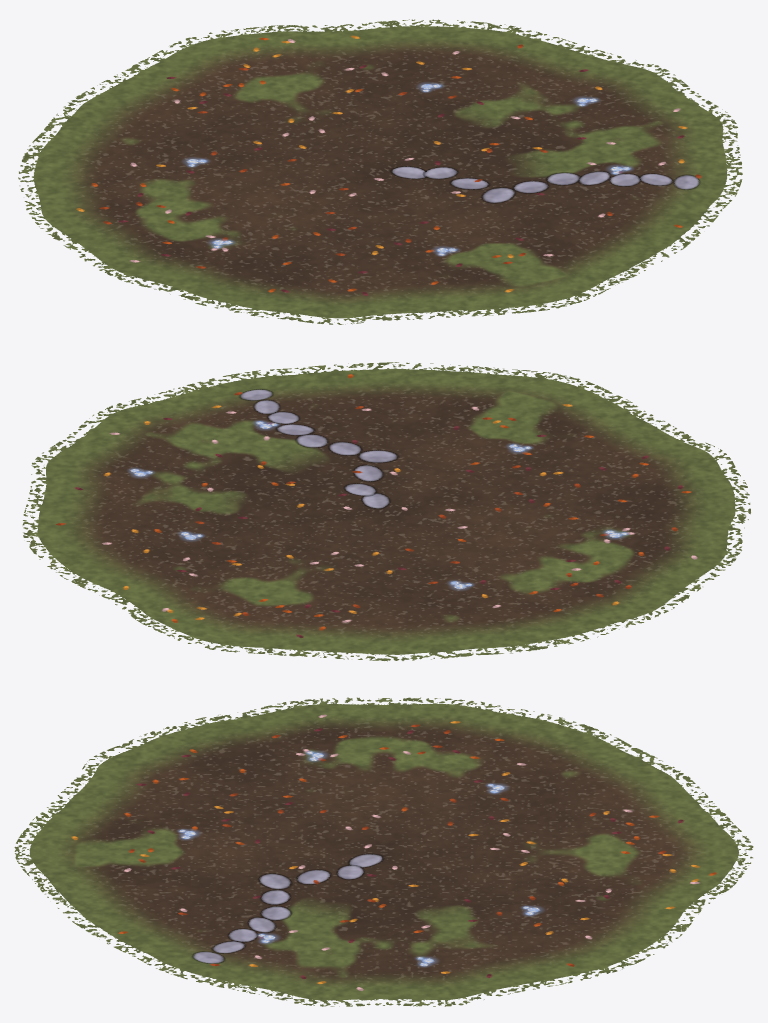
Rendered from graveyard_ground.glb.
3 renders of one model, top to bottom at view 1: azimuth 30°, elevation 25°; view 2: azimuth 150°, elevation 25°; view 3: azimuth 270°, elevation 25°, orthographic.
Parts seen in each view (by area): view 1: YardDirt; view 2: YardDirt; view 3: YardDirt.
Boxes of the visible parts, left/top/right/bottom form: YardDirt: left=18, top=19, right=742, bottom=324; YardDirt: left=22, top=362, right=750, bottom=661; YardDirt: left=14, top=697, right=753, bottom=1006.
Bounding box in the file's own units: 16.8 × 0.024 × 16.8.
1 material, 1 textured.
